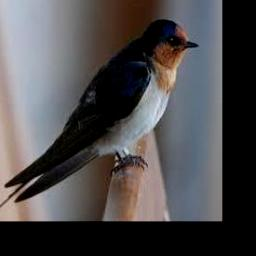Swallow: (0, 18, 199, 217)
